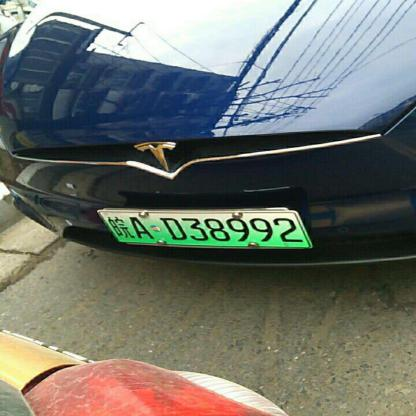lp: (97, 210, 310, 247)
